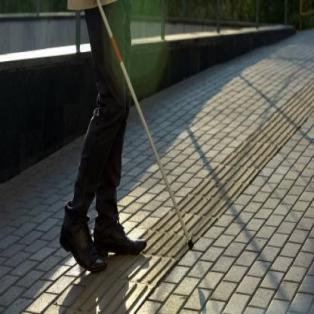Podoctatil: (186, 77, 312, 219)
